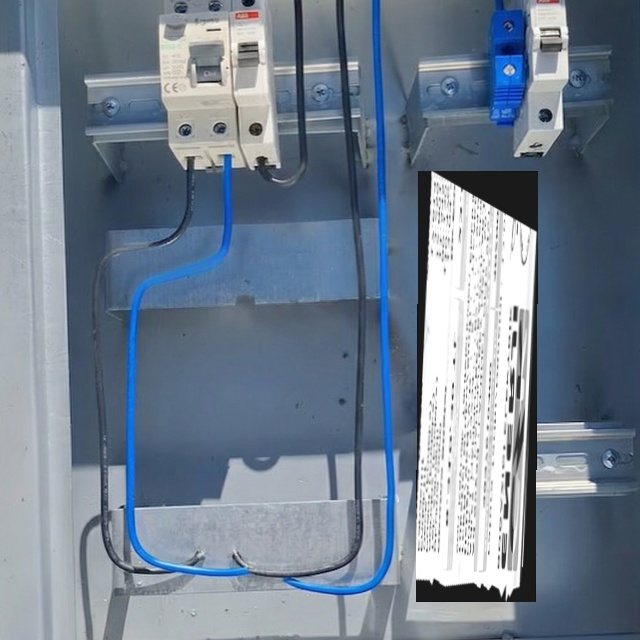electricity-bill: (415, 170, 537, 602)
